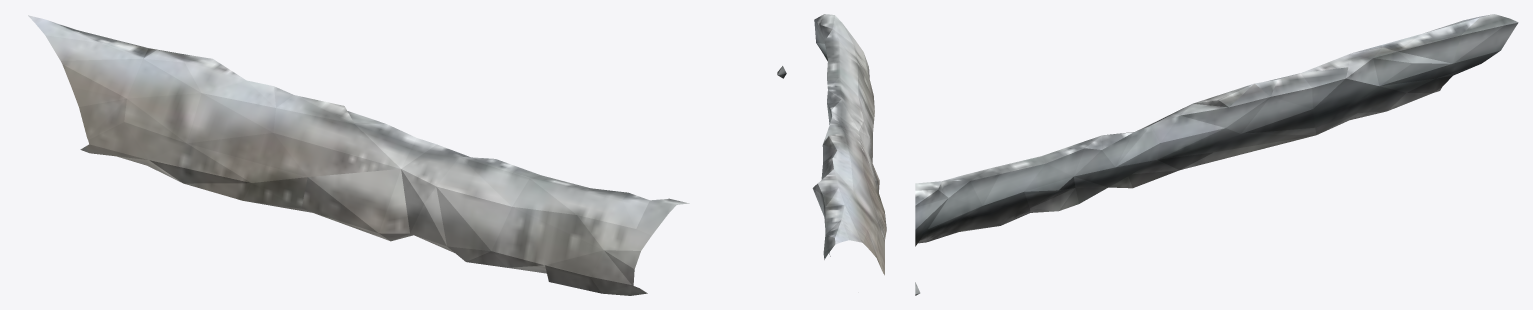
3 renders of one model, left to right at view 1: azimuth 30°, elevation 25°; view 2: azimuth 150°, elevation 25°; view 3: azimuth 270°, elevation 25°, orthographic. The views are drawn at different scales.
Bounding box in the file's own units: 1.06 × 0.3213 × 1.56.
1 material, 1 textured.
